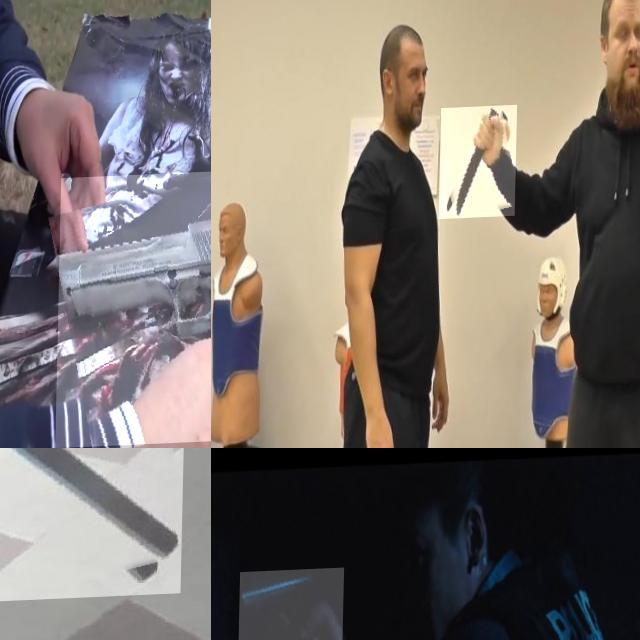-: (0, 448, 187, 606), (441, 108, 518, 221)
gun-knife-thesis - v11 Yolov5 augmented: (57, 170, 211, 448), (238, 570, 344, 640)
